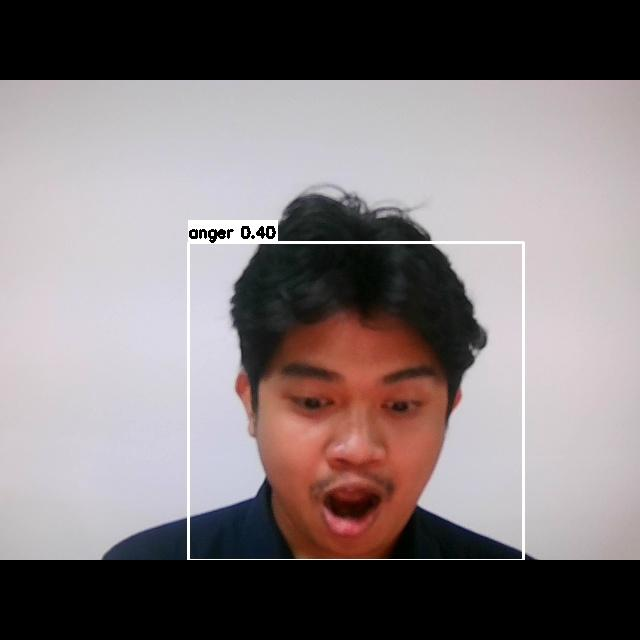Surprised: (271, 311, 447, 545)
